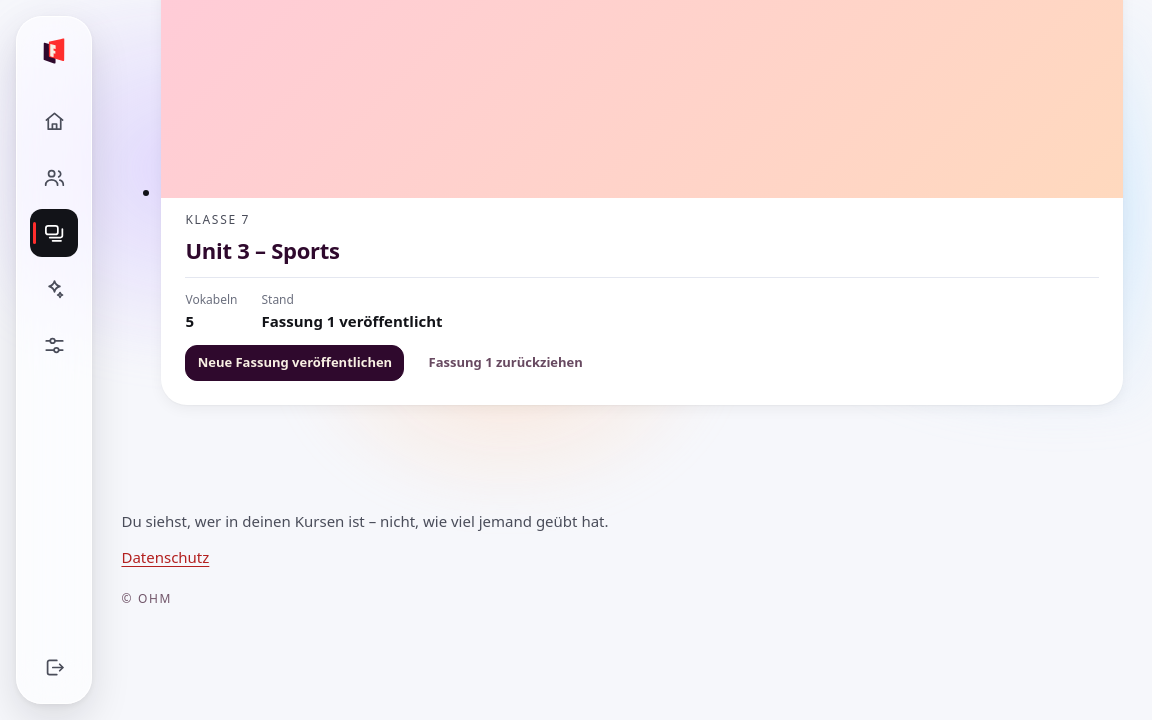
Test case: die Materialseite › zieht eine Fassung zurück und sagt, was das bewirkt
(page scrolled)
Click the button "Fassung 1 zurückziehen" at (506, 363), box [416,345,595,381]
(page scrolled)
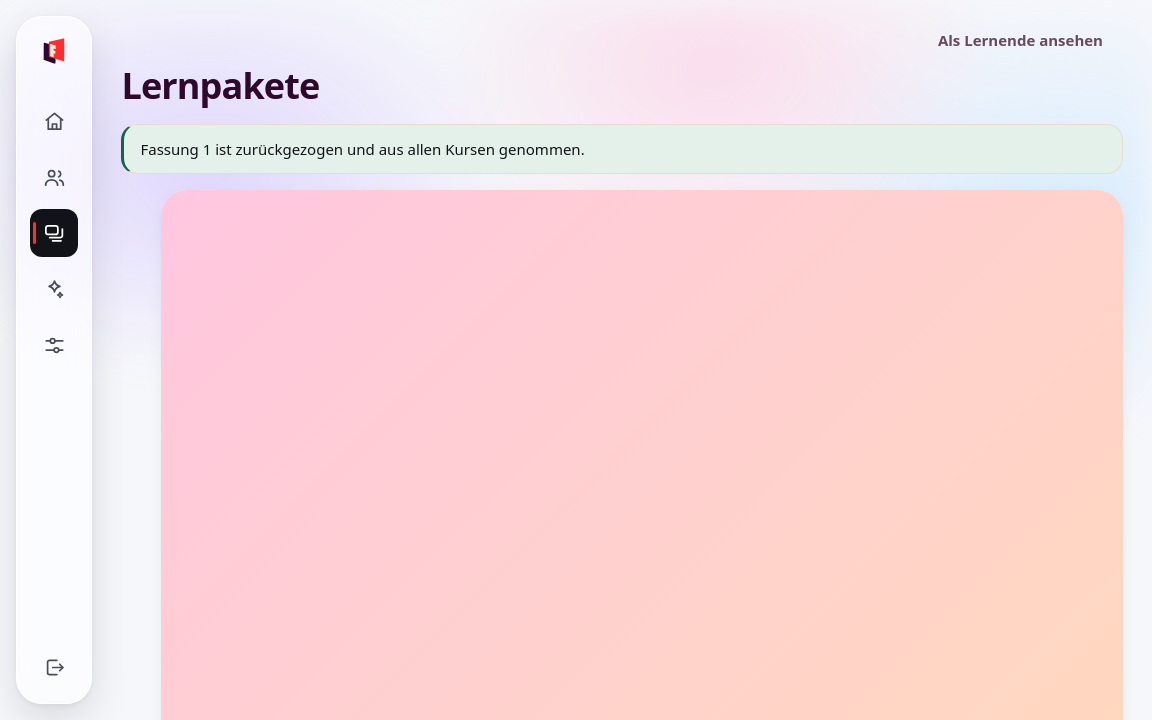
Expected: the text "Fassung 1 ist zurückgezogen und aus allen Kursen genommen." is shown, [121,124,1122,174]
